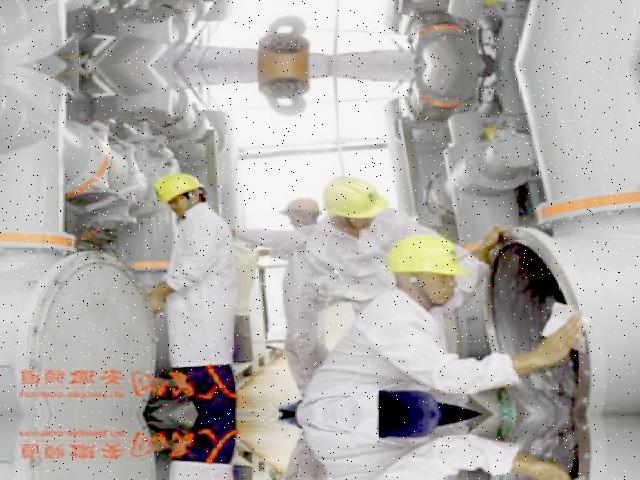Helmet: (380, 229, 479, 281), (314, 171, 395, 226), (153, 166, 212, 212), (278, 193, 324, 216)
